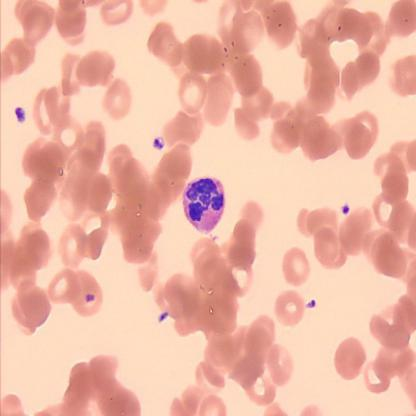Segmented neutrophil: (180, 173, 227, 236)
